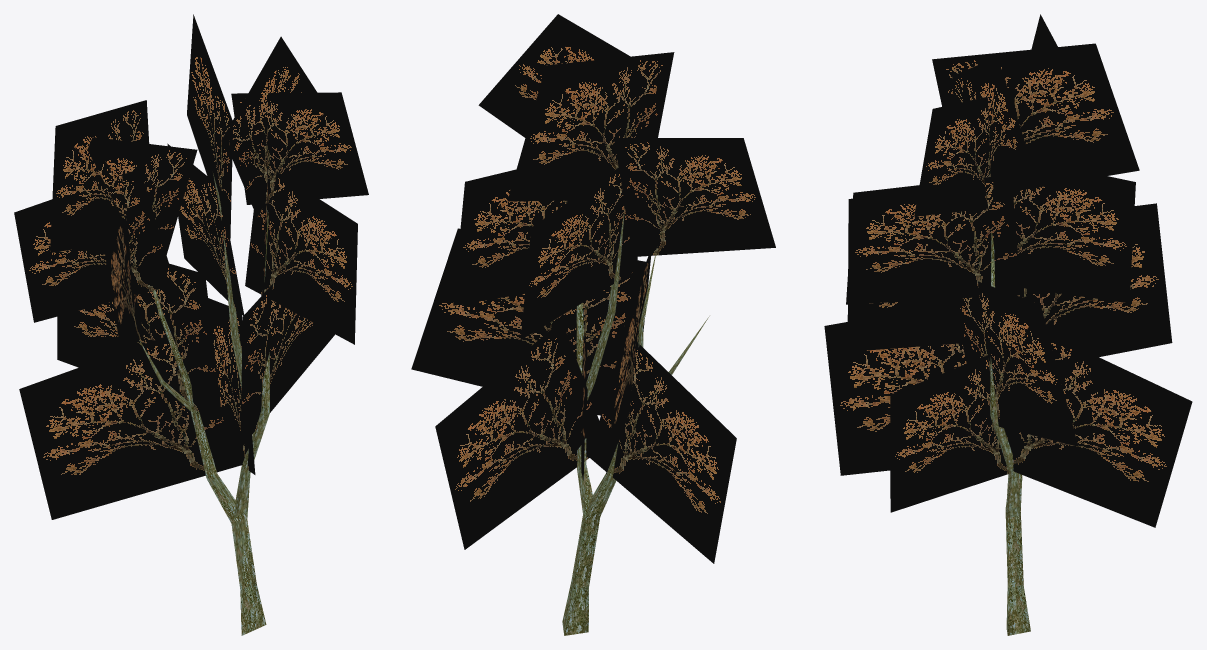
The model's file is stage-lake-p2-286.glb.
3 renders of one model, left to right at view 1: azimuth 30°, elevation 25°; view 2: azimuth 150°, elevation 25°; view 3: azimuth 270°, elevation 25°, orthographic. The views are drawn at different scales.
Size of the model in its own units: 17.85 by 31.16 by 17.68.
Materials: 2 (2 with a texture image).
